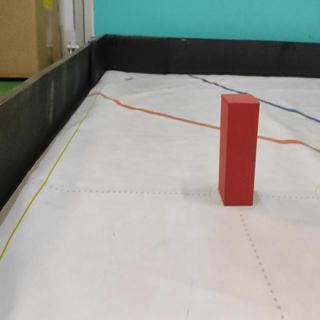redbox: (217, 92, 261, 207)
